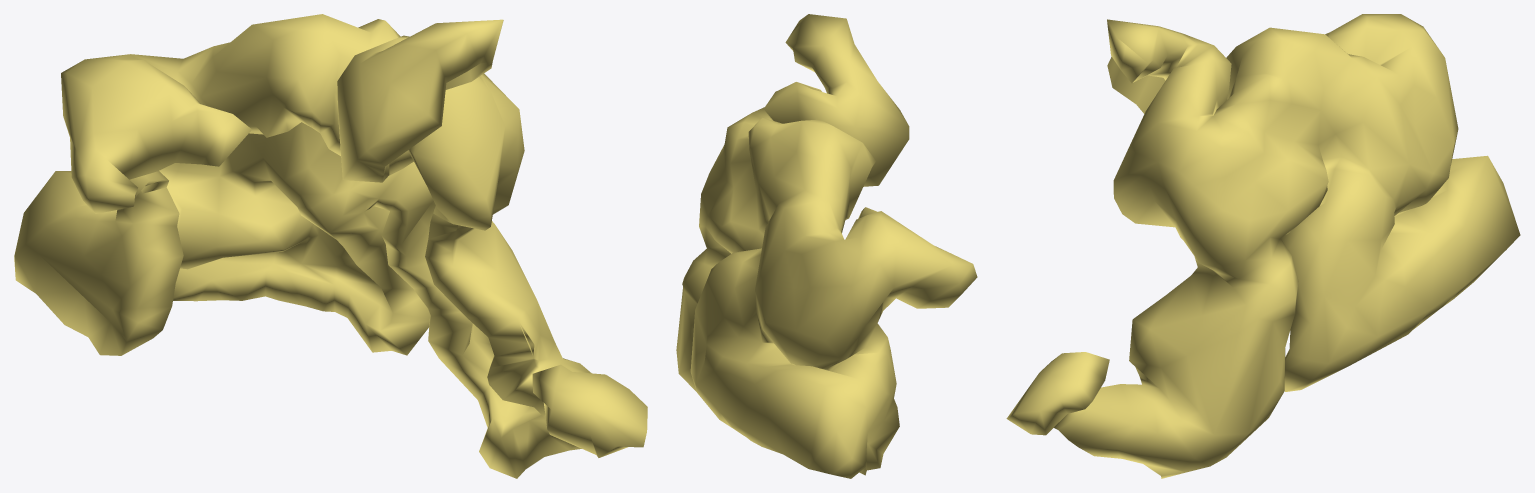
The model's file is angular-gyrus-l.glb.
The picture shows the model from 3 angles, left to right: view 1: azimuth 30°, elevation 25°; view 2: azimuth 150°, elevation 25°; view 3: azimuth 270°, elevation 25°; orthographic projection. The views are drawn at different scales.
Parts seen in each view (by area): view 1: Angular gyrus.l; view 2: Angular gyrus.l; view 3: Angular gyrus.l.
Boxes of the visible parts, x1,y1,x2,y2 form: Angular gyrus.l: [14, 14, 647, 478]; Angular gyrus.l: [676, 14, 977, 478]; Angular gyrus.l: [1006, 14, 1520, 478].
Size of the model in its own units: 0.0432 by 0.0473 by 0.0518.
